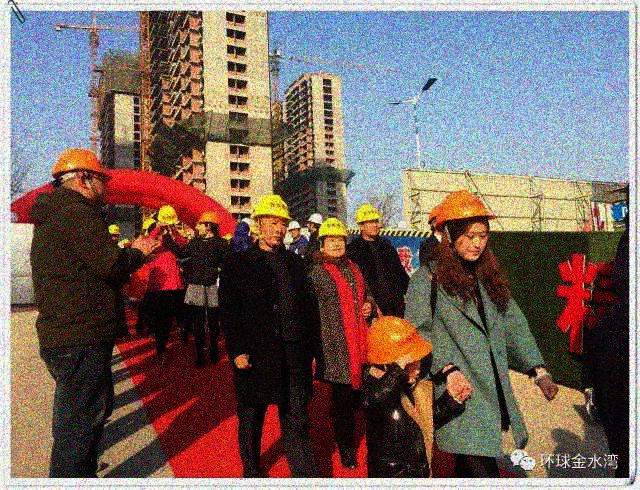helmet: (364, 315, 433, 381), (434, 190, 497, 261), (53, 147, 115, 207), (248, 194, 291, 245), (315, 216, 348, 257), (354, 204, 382, 238), (195, 211, 223, 239), (427, 203, 445, 236), (306, 212, 323, 233), (287, 220, 301, 239), (107, 224, 120, 243)
